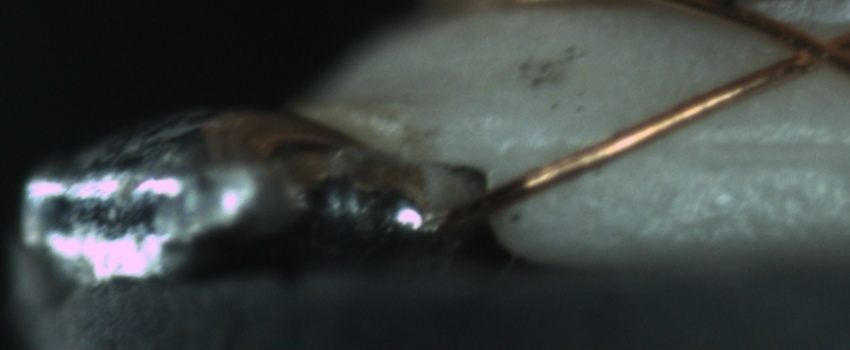CL: (769, 16, 847, 79)
DL: (612, 114, 849, 183)
